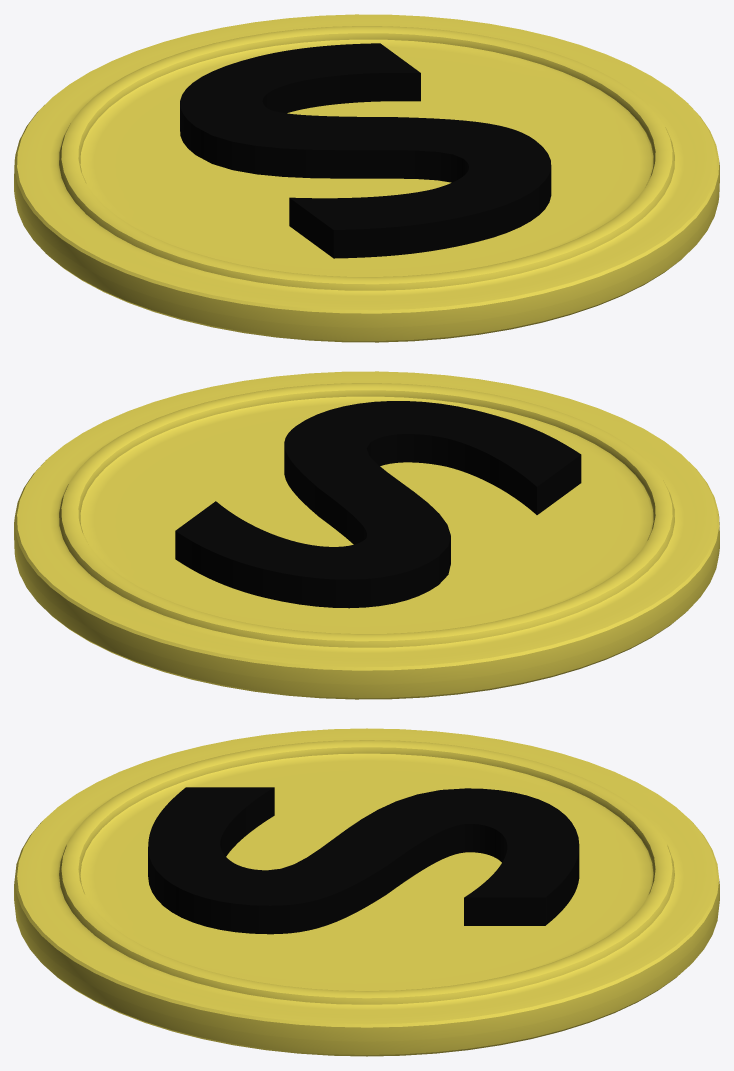
Rendered from mONEDA.fbx.
The picture shows the model from 3 angles, top to bottom: view 1: azimuth 30°, elevation 25°; view 2: azimuth 150°, elevation 25°; view 3: azimuth 270°, elevation 25°; orthographic projection.
Parts seen in each view (by area): view 1: Cylinder; view 2: Cylinder; view 3: Cylinder.
Boxes of the visible parts, x1,y1,x2,y2 form: Cylinder: (14,14,719,342); Cylinder: (14,371,719,699); Cylinder: (14,728,719,1056).
Size of the model in its own units: 199 by 26.15 by 199.
